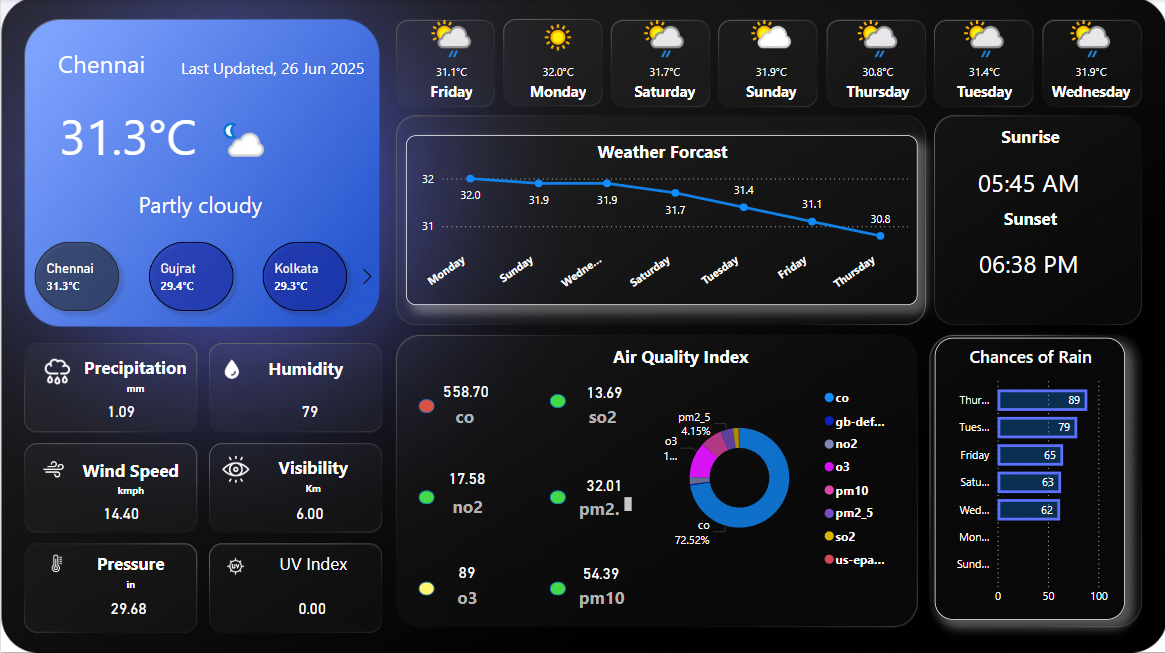

What the dashboard file says about the page in this screenshot:
{"tool":"powerbi","page":{"name":"Page 1","canvas":[1280,720],"ordinal":0},"visuals":[{"type":"advancedSlicerVisual","fields":{"Values":["location.location.name"]},"box":[0,250,417.5,110],"z":0},{"type":"shape","box":[45.5,109.1,188.2,81.8],"z":1000},{"type":"shape","box":[32.9,190.7,371.9,68.6],"z":2000},{"type":"shape","box":[45.3,41.2,130.4,57.6],"z":3000},{"type":"shape","box":[192.3,35.4,212.3,80],"z":4000},{"type":"cardVisual","fields":{"Data":["Min(Current.current.condition.icon)"]},"box":[206.9,115.4,111.5,76.2],"z":5000},{"type":"image","box":[34,387,55,44],"z":6000},{"type":"textbox","box":[77.5,387.5,141.2,52.5],"z":7000},{"type":"image","box":[39,499,38,34],"z":8000},{"type":"textbox","box":[77,499,131,56],"z":9000},{"type":"image","box":[237,385,32,41],"z":10000},{"type":"textbox","box":[269,388,131,36],"z":11000},{"type":"image","box":[237,497,40,39],"z":12000},{"type":"textbox","box":[277,497,131,58],"z":13000},{"type":"image","box":[45,605,32,29],"z":14000},{"type":"textbox","box":[77,602,131,56],"z":15000},{"type":"image","box":[239,608,38,30],"z":16000},{"type":"textbox","box":[277,602,131,36],"z":17000},{"type":"card","fields":{"Values":["Sum(Current.current.precip_mm)"]},"box":[97,431,69,45],"z":18000},{"type":"card","fields":{"Values":["Sum(Current.current.humidity)"]},"box":[305,431,69,45],"z":19000},{"type":"card","fields":{"Values":["Sum(Current.current.wind_kph)"]},"box":[97,543,69,45],"z":20000},{"type":"card","fields":{"Values":["Sum(Current.current.vis_km)"]},"box":[305,543,69,45],"z":21000},{"type":"card","fields":{"Values":["Sum(Current.current.pressure_in)"]},"box":[106,648,69,45],"z":22000},{"type":"card","fields":{"Values":["Sum(Current.current.uv)"]},"box":[308,648,69,45],"z":23000},{"type":"advancedSlicerVisual","fields":{"Values":["Forcast_days.day"]},"box":[435,10,826.2,121.2],"z":24000},{"type":"lineChart","title":"Weather Forcast","fields":{"Category":["Forcast_days.day"],"Y":["Sum(Forcast_days.forecast.forecastday.day.avgtemp_c)"]},"box":[444.6,149.6,561.2,186.6],"z":25000},{"type":"textbox","box":[1036.9,133.2,185.5,40.5],"z":26000},{"type":"shape","box":[1063.9,175.3,129.8,48.9],"z":27000},{"type":"textbox","box":[1036.9,224.2,185.5,40.5],"z":28000},{"type":"shape","box":[1063.9,264.7,129.8,48.9],"z":29000},{"type":"clusteredBarChart","title":"Chances of Rain","fields":{"Y":["Sum(Forcast_days.forecast.forecastday.day.daily_chance_of_rain)"],"Category":["Forcast_days.day"]},"box":[1025.4,372.3,209.1,309.3],"z":30000},{"type":"card","fields":{"Values":["Sum(Current.current.air_quality.co)"]},"box":[475.8,409.1,68.2,45.5],"z":31000},{"type":"textbox","box":[486.4,440.9,47,34.8],"z":32000},{"type":"card","fields":{"Values":["Sum(Current.current.air_quality.no2)"]},"box":[477.3,505.2,68.2,45.5],"z":33000},{"type":"textbox","box":[484.9,539.4,56.1,40.9],"z":34000},{"type":"card","fields":{"Values":["Sum(Current.current.air_quality.o3)"]},"box":[477.6,607.3,68.2,45.5],"z":35000},{"type":"textbox","box":[487.9,639.4,47,42.4],"z":36000},{"type":"card","fields":{"Values":["Sum(Current.current.air_quality.so2)"]},"box":[628.8,410.6,68.2,45.5],"z":37000},{"type":"textbox","box":[624.2,440.9,72.7,34.8],"z":38000},{"type":"card","fields":{"Values":["Sum(Current.current.air_quality.pm2_5)"]},"box":[629.2,511.5,68.2,45.5],"z":39000},{"type":"textbox","box":[624.6,541.8,72.7,34.8],"z":40000},{"type":"card","fields":{"Values":["Sum(Current.current.air_quality.pm10)"]},"box":[624.1,608.8,68.2,45.5],"z":41000},{"type":"textbox","box":[619.7,639.2,78.3,42.5],"z":42000},{"type":"donutChart","title":"AQI","fields":{"Y":["Sum(Current.current.air_quality.co)","Sum(Current.current.air_quality.gb-defra-index)","Sum(Current.current.air_quality.no2)","Sum(Current.current.air_quality.o3)","Sum(Current.current.air_quality.pm10)","Sum(Current.current.air_quality.pm2_5)","Sum(Current.current.air_quality.so2)","Sum(Current.current.air_quality.us-epa-index)"]},"box":[713.6,413.6,274.5,225.5],"z":43000},{"type":"textbox","box":[640,374.4,213.3,36.7],"z":44000},{"type":"shape","box":[602.2,640,17.8,15.6],"z":45000},{"type":"shape","box":[457.8,438.9,17.8,15.6],"z":46000},{"type":"shape","box":[457.8,538.9,17.8,15.6],"z":47000},{"type":"shape","box":[457.8,640,17.8,15.6],"z":48000},{"type":"shape","box":[602.2,433.3,17.8,15.6],"z":49000},{"type":"shape","box":[602.2,538.9,17.8,15.6],"z":50000}]}

Visuals, with their boxes in screenshot pixels (x1, y1, x2, y2), scaled from the page's 1280x720 canvas onto the 1165x653 screenshot:
advancedSlicerVisual - location.location.name: box(0, 227, 380, 326)
shape: box(41, 99, 213, 173)
shape: box(30, 173, 368, 235)
shape: box(41, 37, 160, 90)
shape: box(175, 32, 368, 105)
cardVisual - Min(Current.current.condition.icon): box(188, 105, 290, 174)
image: box(31, 351, 81, 391)
textbox: box(71, 351, 199, 399)
image: box(35, 453, 70, 483)
textbox: box(70, 453, 189, 503)
image: box(216, 349, 245, 386)
textbox: box(245, 352, 364, 385)
image: box(216, 451, 252, 486)
textbox: box(252, 451, 371, 503)
image: box(41, 549, 70, 575)
textbox: box(70, 546, 189, 597)
image: box(218, 551, 252, 579)
textbox: box(252, 546, 371, 579)
card - Sum(Current.current.precip_mm): box(88, 391, 151, 432)
card - Sum(Current.current.humidity): box(278, 391, 340, 432)
card - Sum(Current.current.wind_kph): box(88, 492, 151, 533)
card - Sum(Current.current.vis_km): box(278, 492, 340, 533)
card - Sum(Current.current.pressure_in): box(96, 588, 159, 629)
card - Sum(Current.current.uv): box(280, 588, 343, 629)
advancedSlicerVisual - Forcast_days.day: box(396, 9, 1148, 119)
"Weather Forcast" lineChart: box(405, 136, 915, 305)
textbox: box(944, 121, 1113, 158)
shape: box(968, 159, 1086, 203)
textbox: box(944, 203, 1113, 240)
shape: box(968, 240, 1086, 284)
"Chances of Rain" clusteredBarChart: box(933, 338, 1124, 618)
card - Sum(Current.current.air_quality.co): box(433, 371, 495, 412)
textbox: box(443, 400, 485, 431)
card - Sum(Current.current.air_quality.no2): box(434, 458, 496, 499)
textbox: box(441, 489, 492, 526)
card - Sum(Current.current.air_quality.o3): box(435, 551, 497, 592)
textbox: box(444, 580, 487, 618)
card - Sum(Current.current.air_quality.so2): box(572, 372, 634, 414)
textbox: box(568, 400, 634, 431)
card - Sum(Current.current.air_quality.pm2_5): box(573, 464, 635, 505)
textbox: box(568, 491, 635, 523)
card - Sum(Current.current.air_quality.pm10): box(568, 552, 630, 593)
textbox: box(564, 580, 635, 618)
"AQI" donutChart: box(649, 375, 899, 580)
textbox: box(582, 340, 777, 373)
shape: box(548, 580, 564, 595)
shape: box(417, 398, 433, 412)
shape: box(417, 489, 433, 503)
shape: box(417, 580, 433, 595)
shape: box(548, 393, 564, 407)
shape: box(548, 489, 564, 503)
